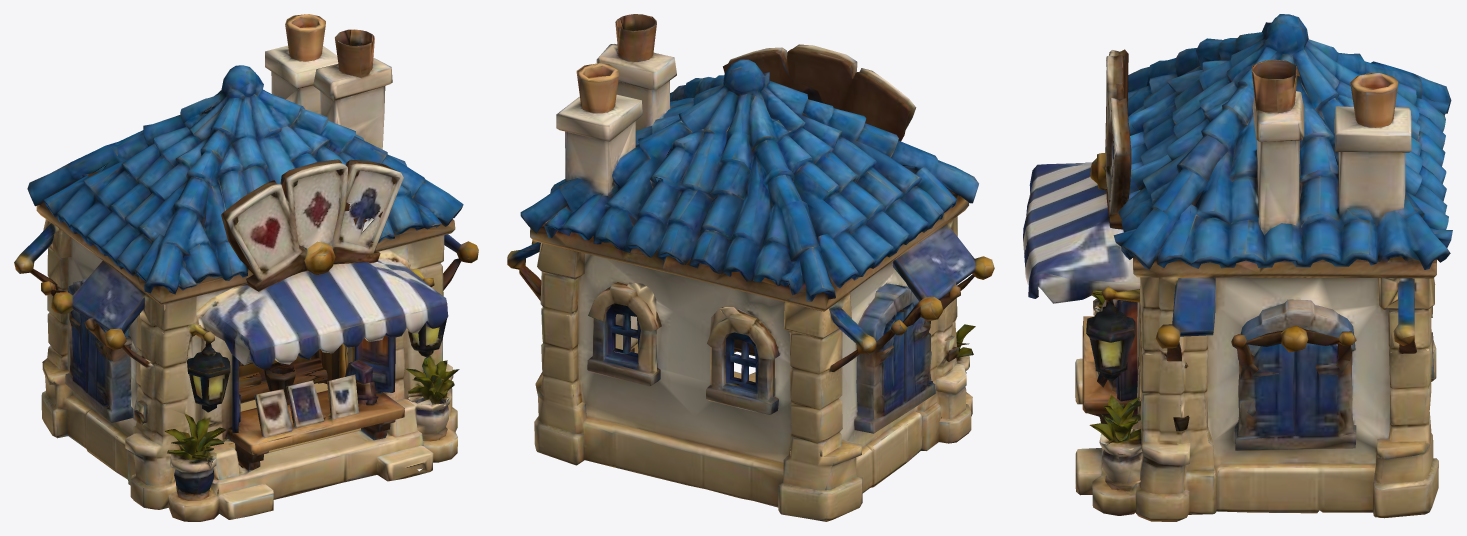
The picture shows the model from 3 angles, left to right: view 1: azimuth 30°, elevation 25°; view 2: azimuth 150°, elevation 25°; view 3: azimuth 270°, elevation 25°; orthographic projection. The views are drawn at different scales.
Visible parts, largest first — view 1: harbor__card_pavilion__native_mobile; view 2: harbor__card_pavilion__native_mobile; view 3: harbor__card_pavilion__native_mobile.
Part boxes in pixels (x1,y1,x2,y2): harbor__card_pavilion__native_mobile: (14,14,478,521); harbor__card_pavilion__native_mobile: (507,14,994,521); harbor__card_pavilion__native_mobile: (1023,14,1452,521).
Size of the model in its own units: 1 by 0.9485 by 0.8556.
Materials: 1 (1 with a texture image).
